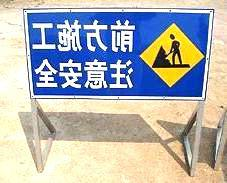sign: (25, 10, 206, 100)
